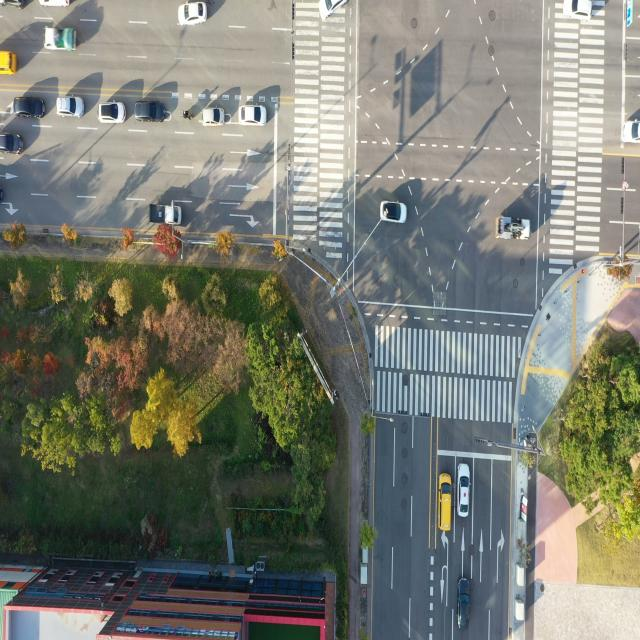car: (438, 471, 454, 536), (176, 0, 208, 26), (456, 576, 471, 630), (14, 96, 46, 120), (133, 99, 166, 122), (458, 464, 472, 518), (562, 0, 594, 20), (380, 201, 406, 225), (239, 104, 265, 126), (201, 106, 227, 128), (100, 102, 125, 124), (0, 132, 22, 156), (59, 97, 83, 118), (621, 117, 640, 142), (0, 49, 18, 74)
small_truck: (495, 213, 534, 243), (44, 26, 77, 54), (147, 204, 182, 227)
